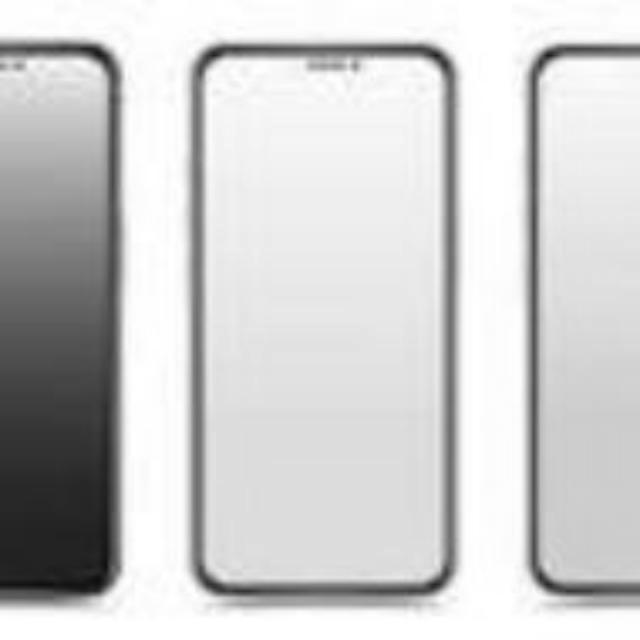fake: (189, 42, 453, 598), (0, 34, 128, 607), (526, 32, 640, 608)
